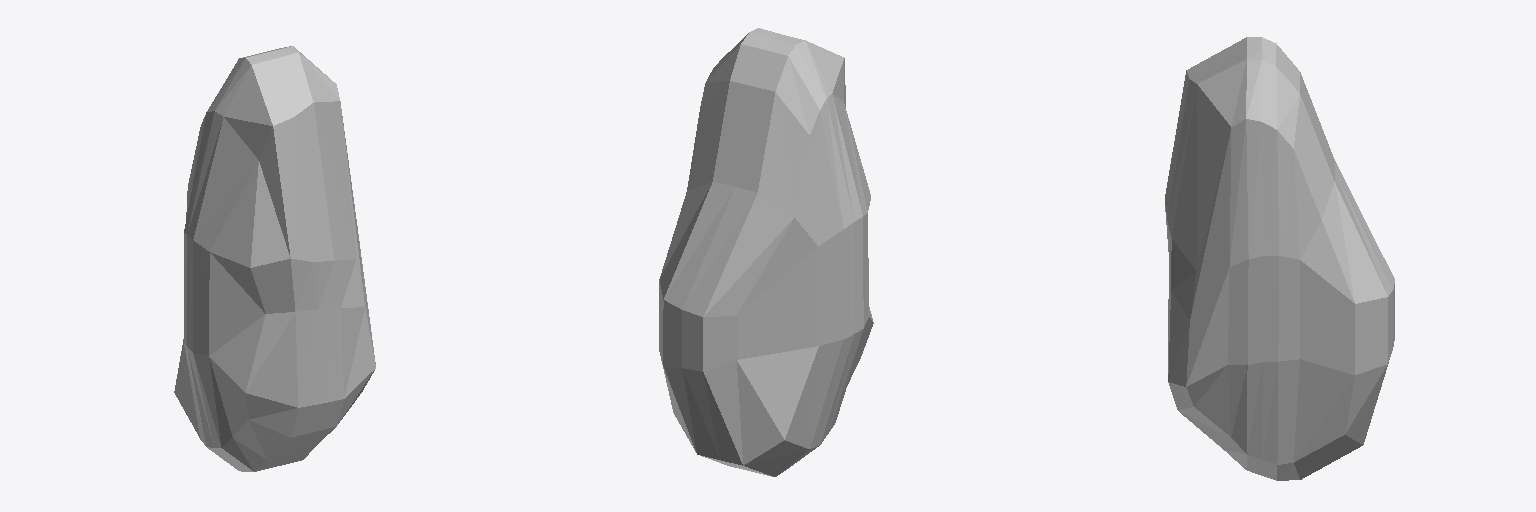
The model's file is monolith_02.obj.
The picture shows the model from 3 angles: view 1: azimuth 30°, elevation 25°; view 2: azimuth 150°, elevation 25°; view 3: azimuth 270°, elevation 25°; orthographic projection.
Visible parts, largest first — view 1: Cube_Cube; view 2: Cube_Cube; view 3: Cube_Cube.
Part boxes in pixels (left/top/right/bottom): Cube_Cube: left=174, top=46, right=375, bottom=471; Cube_Cube: left=659, top=28, right=873, bottom=476; Cube_Cube: left=1165, top=37, right=1394, bottom=480.
Size of the model in its own units: 295 by 745 by 371.